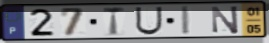2: (28, 8, 57, 38)
7: (59, 7, 88, 38)
I: (180, 5, 192, 36)
N: (210, 5, 240, 35)
T: (102, 6, 126, 37)
U: (134, 6, 165, 37)
